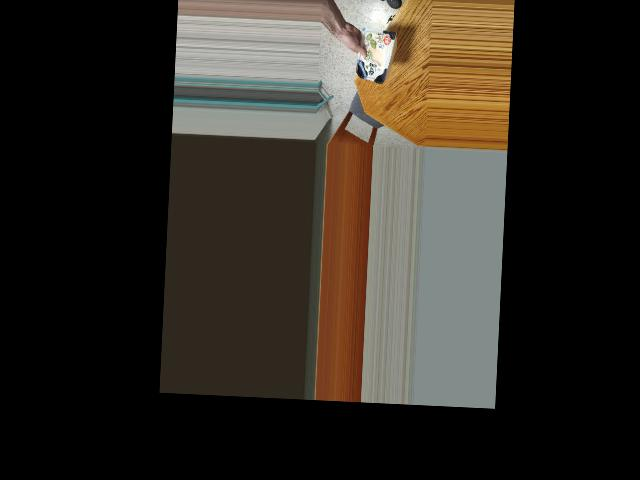cheese: (353, 28, 397, 83)
